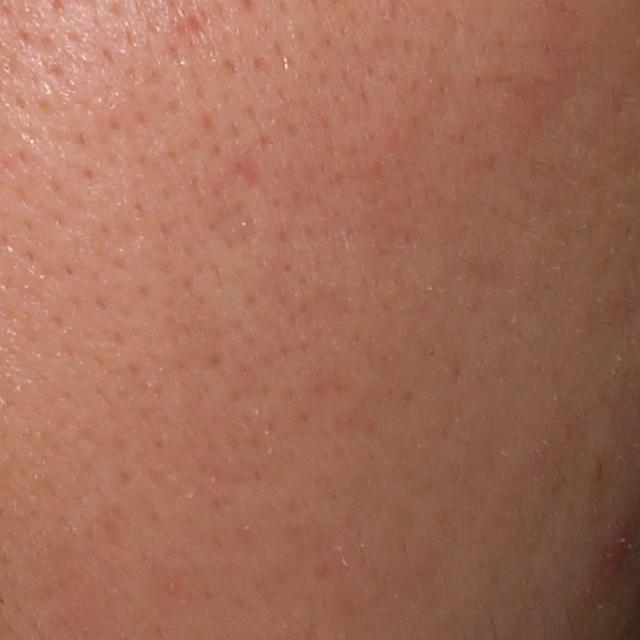papule: (598, 528, 635, 574)
